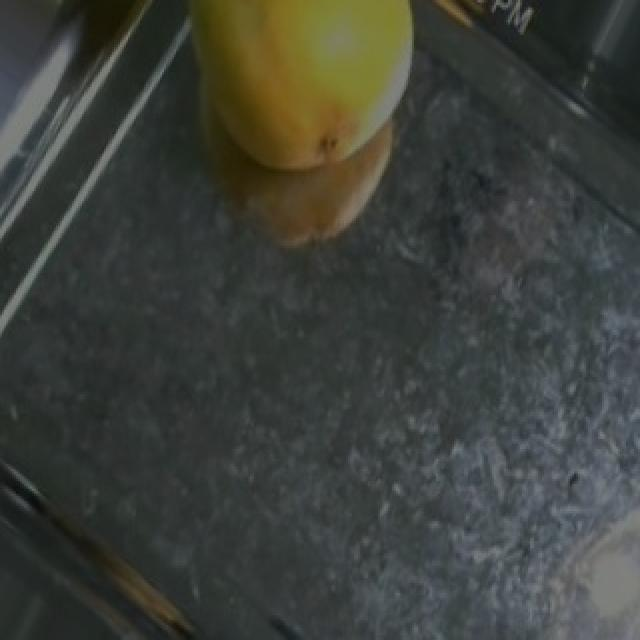fruit: (146, 0, 476, 218)
